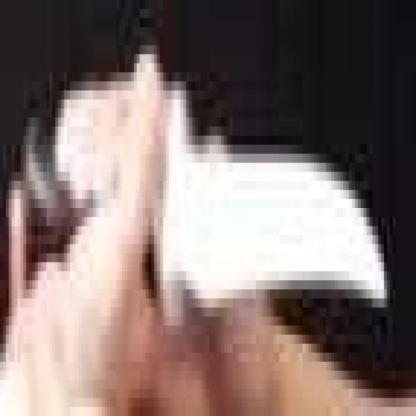Knife: (19, 66, 389, 318)
